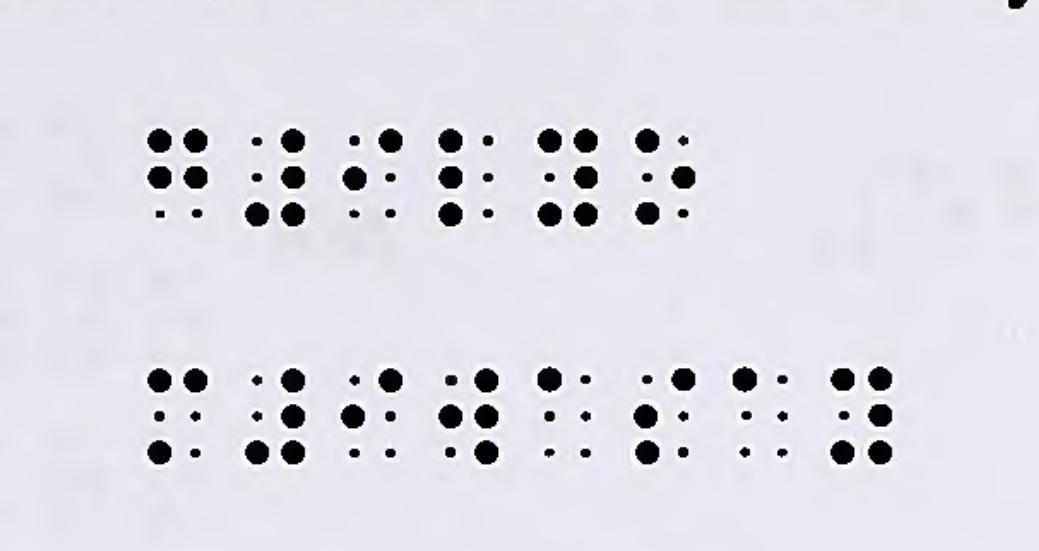letter_a: (536, 366, 593, 460), (732, 366, 787, 456)
letter_g: (147, 128, 207, 220)
letter_i: (341, 368, 402, 458), (344, 128, 403, 221)
letter_l: (438, 127, 494, 226)
letter_m: (145, 367, 208, 463)
letter_o: (634, 127, 695, 228)
letter_s: (634, 367, 694, 465)
letter_w: (437, 367, 498, 466)
letter_y: (536, 128, 599, 229), (831, 366, 892, 466)
one_cell_part_word_at: (245, 128, 306, 228), (245, 369, 307, 465)
